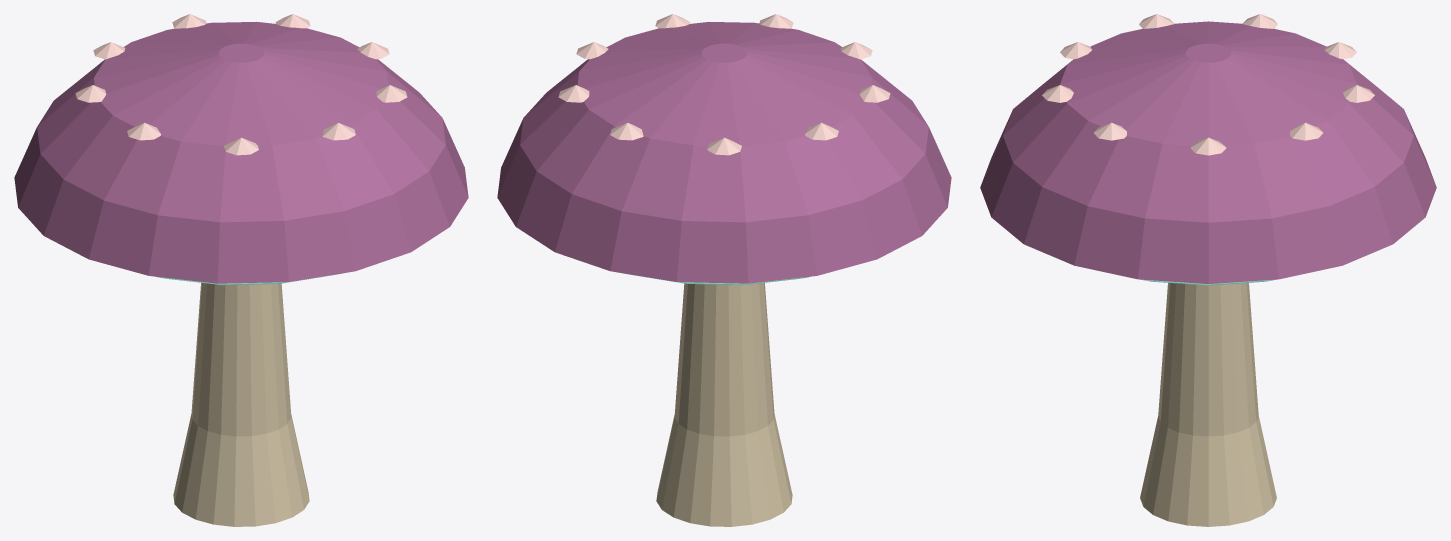
The model's file is Mushroom.obj.
The picture shows the model from 3 angles, left to right: view 1: azimuth 30°, elevation 25°; view 2: azimuth 150°, elevation 25°; view 3: azimuth 270°, elevation 25°; orthographic projection.
Visible parts, largest first — view 1: Mushroom; view 2: Mushroom; view 3: Mushroom.
Boxes of the visible parts, left/top/right/bottom form: Mushroom: left=14, top=14, right=468, bottom=526; Mushroom: left=497, top=14, right=951, bottom=526; Mushroom: left=980, top=14, right=1436, bottom=526.
Size of the model in its own units: 2 by 2.15 by 2.
